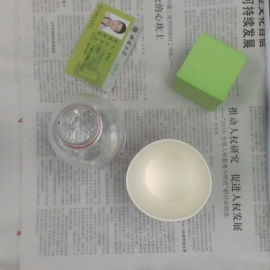bottle: (48, 95, 125, 171)
card: (67, 2, 143, 95)
cup: (126, 139, 211, 221)
